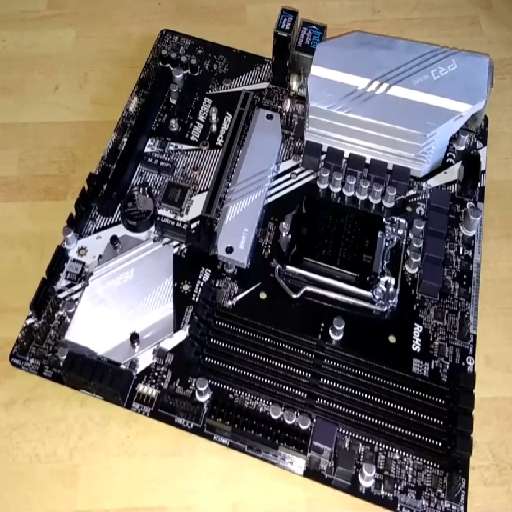CPU: (266, 160, 416, 316)
GPU: (182, 87, 261, 267), (99, 63, 177, 218)
MOTHERBOARD: (10, 5, 496, 512)
RAM: (180, 300, 461, 459)
SSD: (137, 142, 180, 179), (154, 213, 192, 249)
